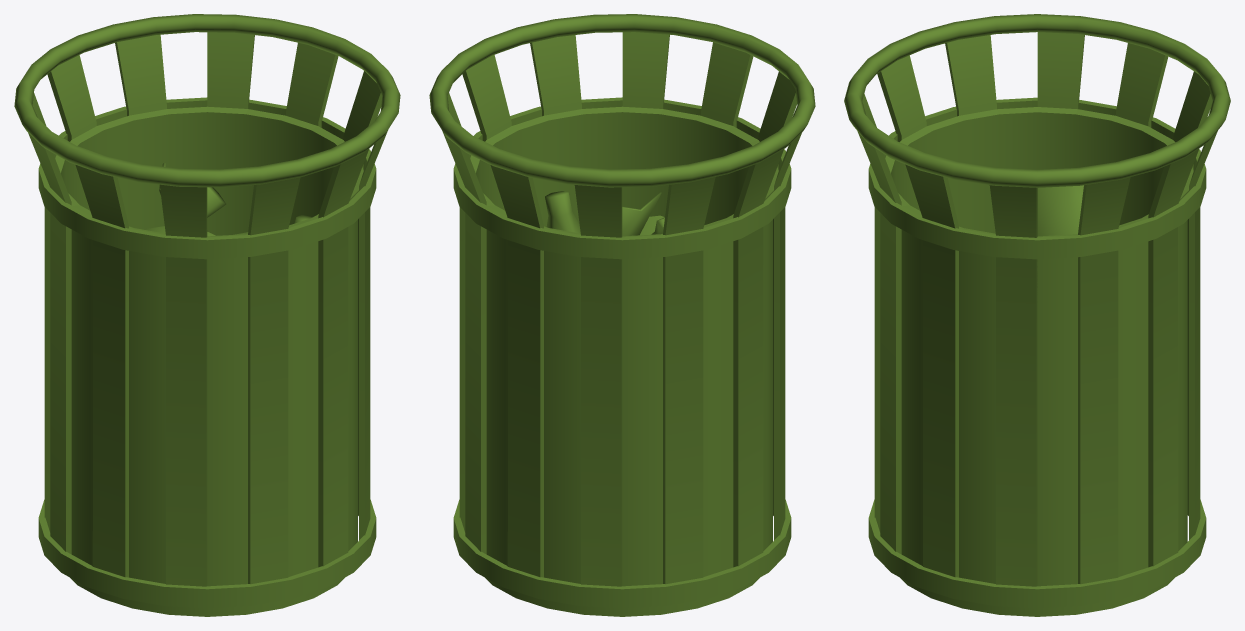
Rendered from mcp_trash_can_01_LOD_0.FBX.
3 renders of one model, left to right at view 1: azimuth 30°, elevation 25°; view 2: azimuth 150°, elevation 25°; view 3: azimuth 270°, elevation 25°, orthographic.
Parts seen in each view (by area): view 1: mcp_trash_can_01; view 2: mcp_trash_can_01; view 3: mcp_trash_can_01.
Part boxes in pixels (x1,y1,x2,y2): mcp_trash_can_01: [14, 14, 400, 616]; mcp_trash_can_01: [429, 14, 815, 616]; mcp_trash_can_01: [844, 14, 1230, 616].
Size of the model in its own units: 63.67 by 83.46 by 63.67.
